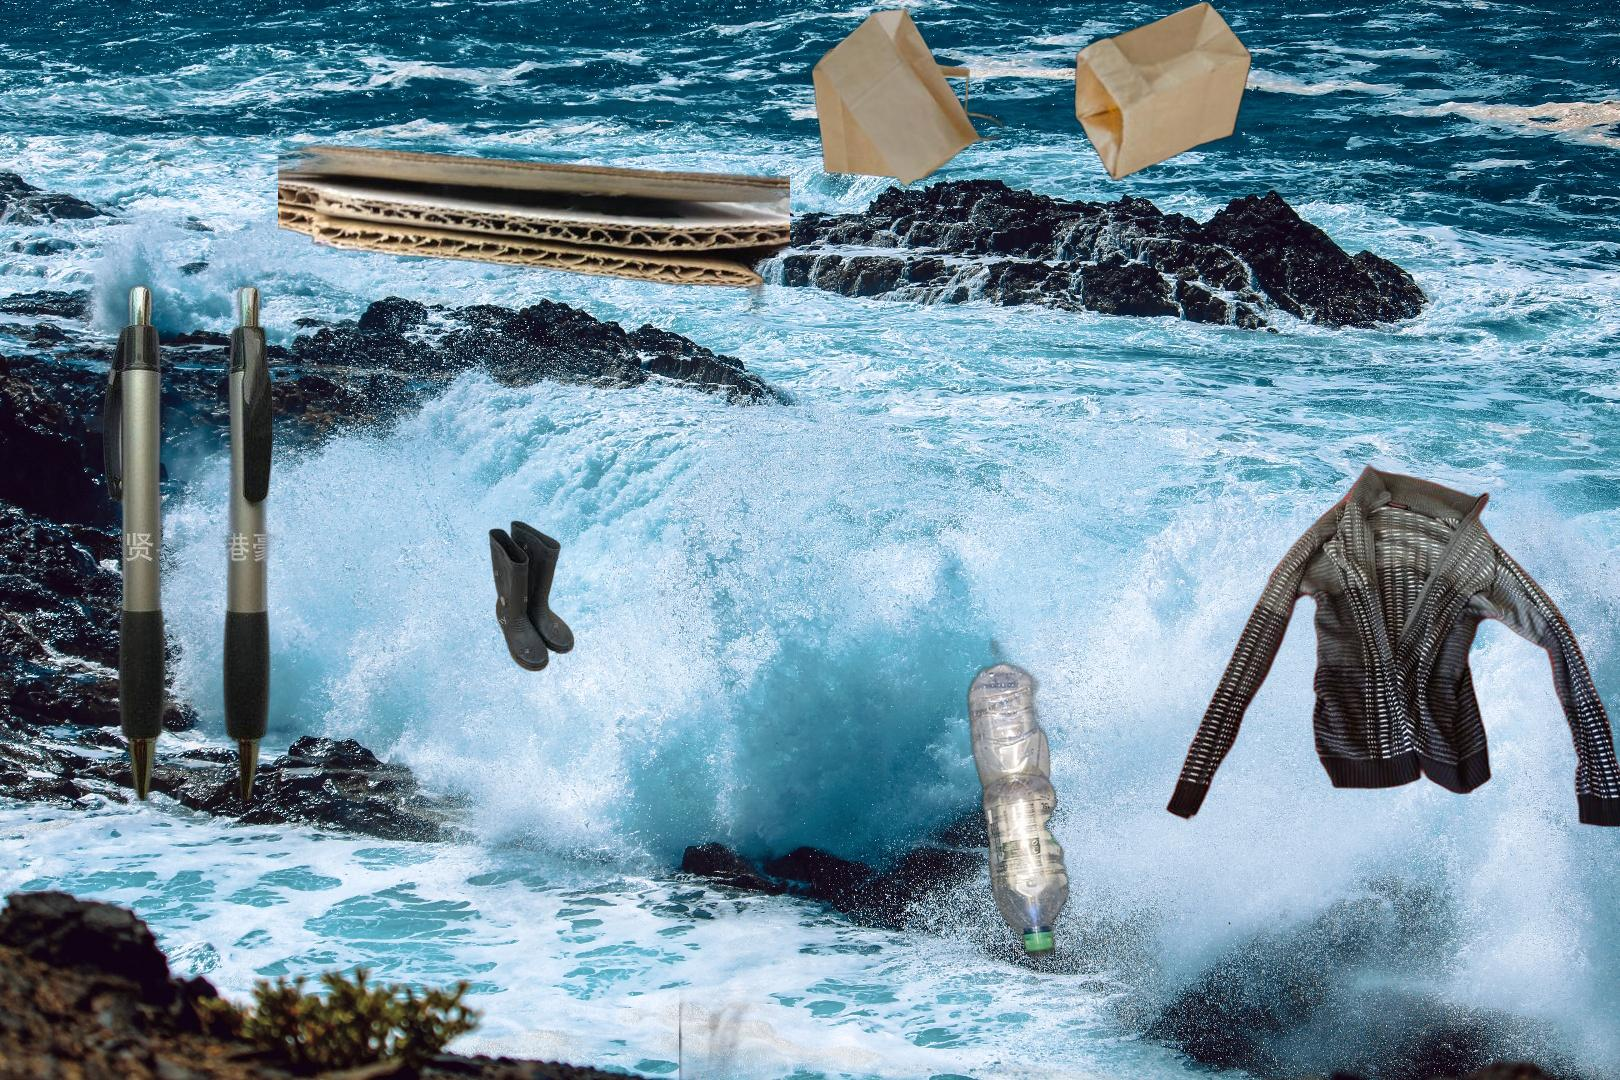clothes: (1161, 458, 1620, 829)
paper-bag: (809, 6, 1006, 190), (1073, 0, 1254, 183)
penholder: (99, 280, 284, 802)
plastic-bottles: (963, 626, 1074, 984)
shoes: (486, 518, 577, 674)
trashbox-cardboard: (278, 141, 790, 415), (679, 941, 1191, 1080)
